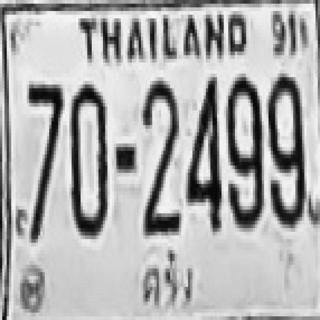N00: (71, 81, 106, 235)
N02: (141, 77, 177, 232)
N04: (186, 74, 219, 228)
N07: (27, 81, 63, 239)
N09: (266, 70, 304, 224), (224, 74, 262, 224)
P70: (139, 248, 198, 316)
